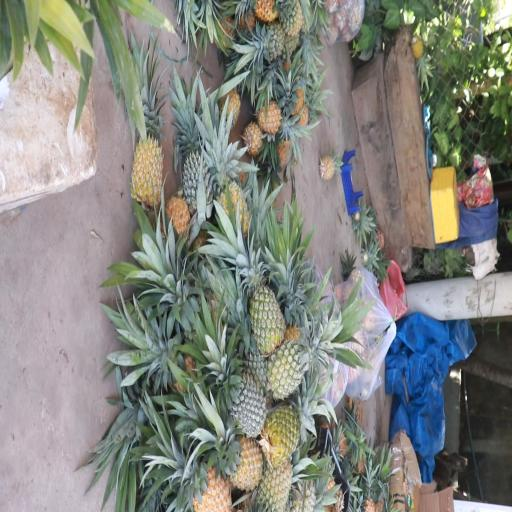------------------------------: (236, 248, 286, 349), (270, 319, 334, 396), (263, 399, 326, 459)
Pineapple - v8 v1: (130, 81, 166, 204), (203, 418, 264, 487), (168, 445, 230, 512), (211, 151, 252, 237)
